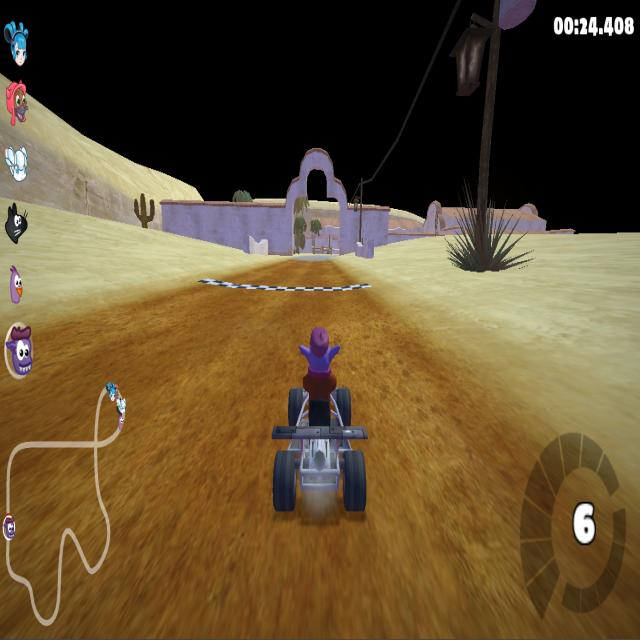player_kart: (273, 329, 367, 526)
track: (1, 522, 639, 640), (3, 333, 271, 517), (369, 334, 486, 522), (488, 417, 606, 523), (200, 259, 294, 332), (295, 249, 337, 326), (134, 297, 202, 332), (339, 295, 407, 329), (339, 261, 366, 296)
